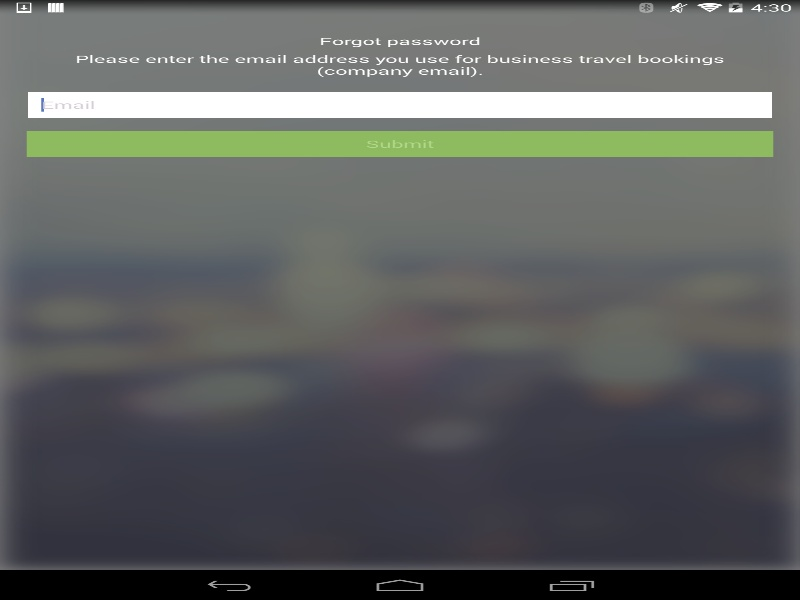Input: (28, 91, 772, 117)
